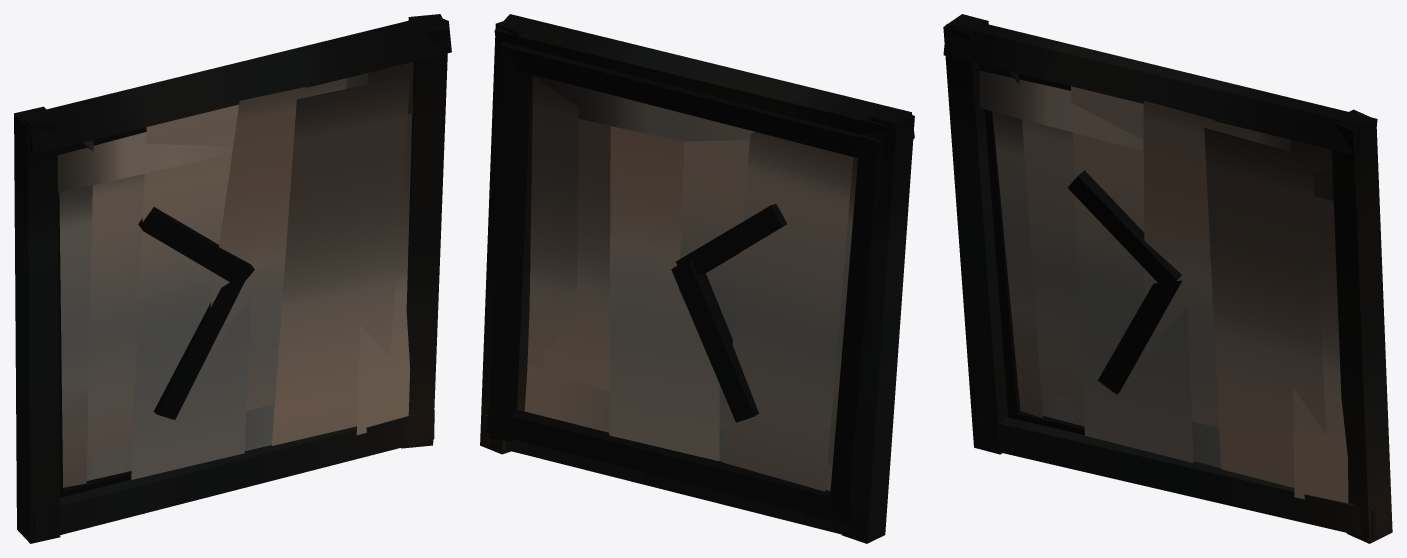
Rendered from clock_01_quill.fbx.
The picture shows the model from 3 angles, left to right: view 1: azimuth 30°, elevation 25°; view 2: azimuth 150°, elevation 25°; view 3: azimuth 330°, elevation 25°; orthographic projection. The views are drawn at different scales.
Parts seen in each view (by area): view 1: Clock; view 2: Clock; view 3: Clock.
Part boxes in pixels (x1,y1,x2,y2): Clock: (14, 14, 451, 543); Clock: (480, 14, 914, 543); Clock: (943, 14, 1392, 543).
Size of the model in its own units: 1.11 by 1.08 by 0.186.
